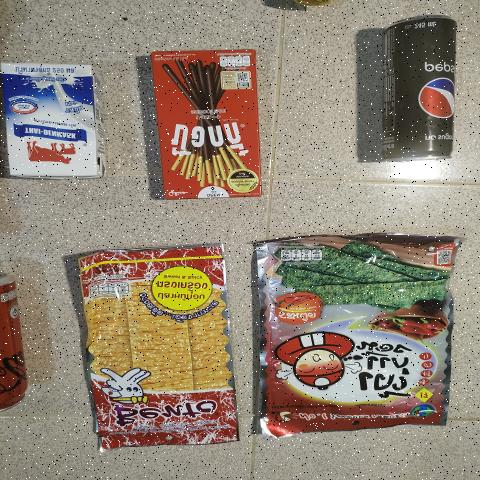bento_red: (87, 240, 232, 446)
pepsi_black: (388, 7, 465, 167)
pokki: (162, 48, 260, 198)
taokaenoi: (264, 249, 433, 423)
thai_denmark: (2, 61, 106, 180)
